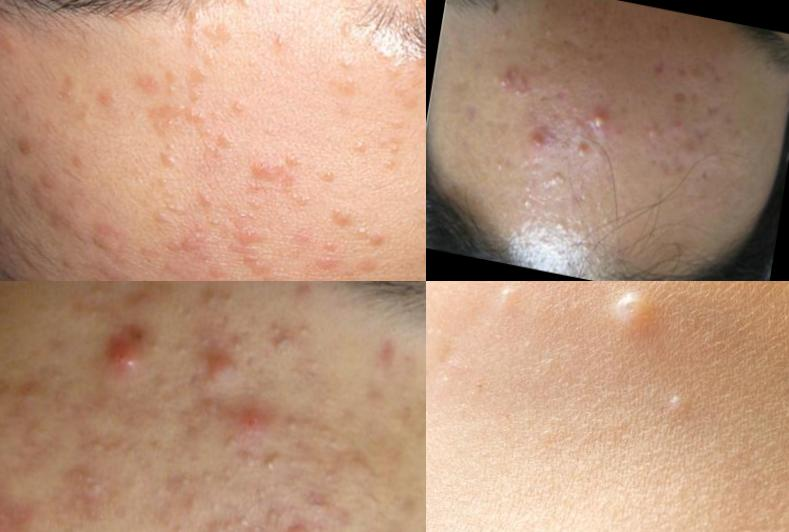acne_scars: (673, 76, 701, 120), (647, 48, 674, 87), (702, 91, 731, 123)
cystic: (578, 282, 691, 352)
flat_wart: (1, 125, 78, 243), (87, 60, 161, 138), (225, 218, 300, 282), (304, 234, 391, 282), (169, 1, 242, 58), (341, 130, 423, 180), (273, 142, 329, 213), (77, 203, 140, 264), (133, 96, 213, 144), (57, 254, 182, 282), (159, 220, 229, 268), (324, 193, 371, 231), (154, 140, 188, 180), (212, 127, 243, 154), (187, 271, 239, 282), (1, 31, 20, 59)
papular: (230, 397, 288, 457), (198, 346, 246, 400), (270, 513, 319, 532), (1, 373, 13, 423)
purulent: (90, 319, 166, 392), (580, 97, 622, 135), (516, 129, 558, 157)
sebo-crystan-conglo: (1, 497, 35, 532), (503, 50, 528, 96)
whitehead: (654, 372, 712, 431), (260, 313, 316, 365), (60, 465, 114, 518), (464, 282, 541, 316), (191, 282, 248, 321), (79, 424, 120, 473), (148, 191, 195, 230), (291, 85, 337, 120), (310, 159, 349, 196), (483, 150, 520, 189), (535, 18, 569, 60), (176, 487, 215, 520), (253, 447, 288, 481), (46, 367, 82, 399), (345, 123, 377, 157), (517, 186, 551, 218), (265, 28, 298, 60), (571, 126, 598, 164), (158, 367, 184, 403), (496, 10, 519, 49), (84, 282, 124, 304), (318, 233, 353, 258), (225, 91, 255, 120), (172, 336, 199, 368), (195, 193, 225, 221), (284, 409, 311, 440), (227, 509, 263, 532), (18, 387, 49, 412), (352, 518, 399, 532), (552, 210, 572, 240), (643, 113, 663, 142), (205, 210, 228, 234), (245, 176, 267, 200), (227, 1, 266, 14), (337, 52, 359, 75), (549, 168, 571, 191)
